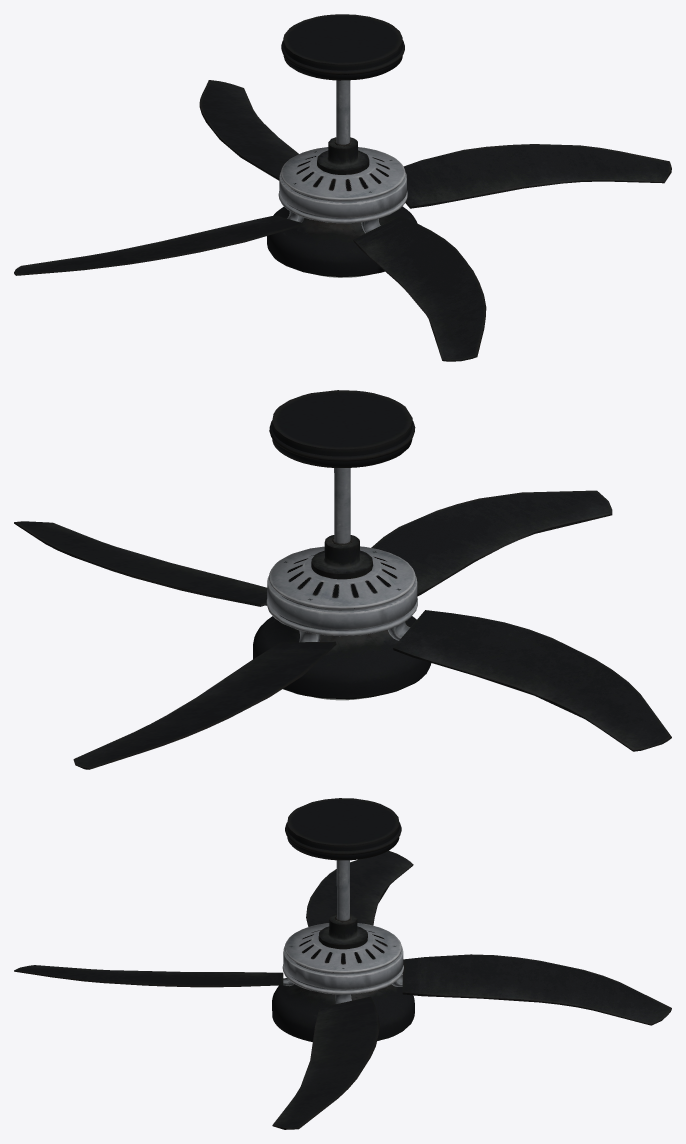
Rendered from ceiling_fan.glb.
The picture shows the model from 3 angles, top to bottom: view 1: azimuth 30°, elevation 25°; view 2: azimuth 150°, elevation 25°; view 3: azimuth 270°, elevation 25°; orthographic projection. The views are drawn at different scales.
Parts seen in each view (by area): view 1: ceiling_fan; view 2: ceiling_fan; view 3: ceiling_fan.
Boxes of the visible parts, x1,y1,x2,y2 form: ceiling_fan: (14, 14, 671, 361); ceiling_fan: (14, 390, 671, 769); ceiling_fan: (14, 798, 671, 1129).
Bounding box in the file's own units: 1.46 × 0.5163 × 1.46.
Materials: 1 (1 with a texture image).
